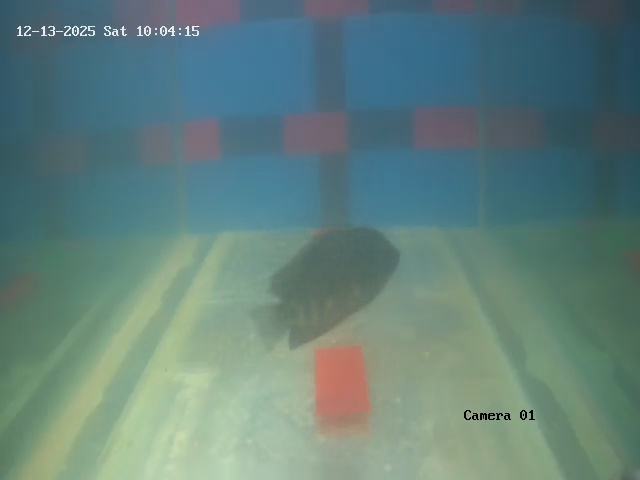fish: (276, 204, 406, 361)
